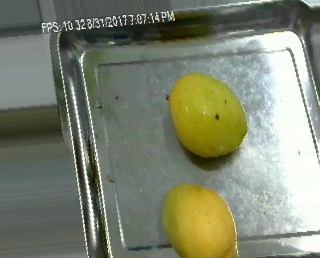Mango: (166, 68, 249, 161), (158, 179, 242, 257)
